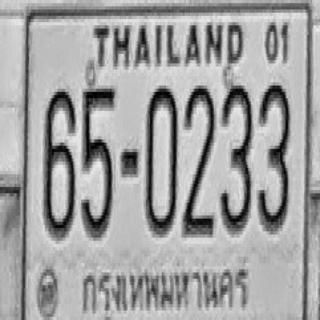N00: (145, 86, 177, 234)
N02: (183, 84, 214, 233)
N03: (220, 82, 252, 234), (258, 82, 290, 231)
N05: (81, 85, 115, 238)
N06: (44, 89, 76, 238)
P04: (80, 257, 255, 320)
